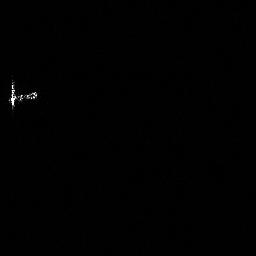ship: (5, 78, 39, 111)
